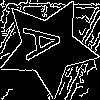A: (23, 22, 71, 62)
